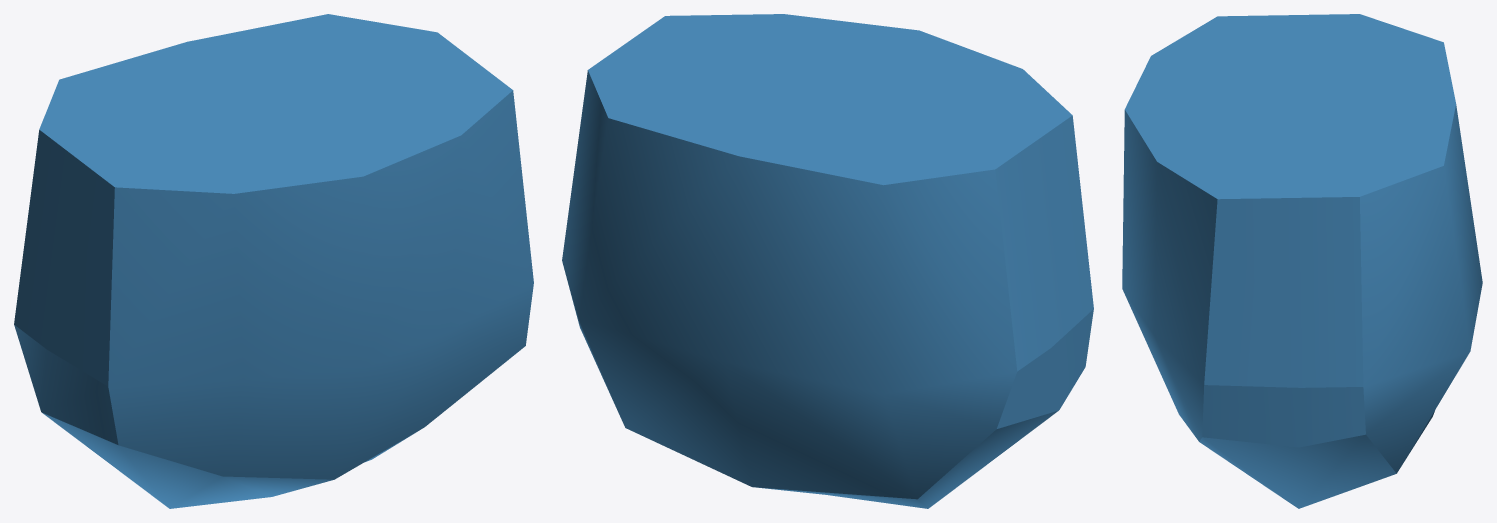
File: Driver_Hips.fbx
3 views of the same model, side by side, from view 1: azimuth 30°, elevation 25°; view 2: azimuth 150°, elevation 25°; view 3: azimuth 270°, elevation 25° (orthographic). The views are drawn at different scales.
Visible parts, largest first — view 1: Driver_Hips; view 2: Driver_Hips; view 3: Driver_Hips.
Part boxes in pixels (left/top/right/bottom): Driver_Hips: left=14, top=14, right=533, bottom=508; Driver_Hips: left=562, top=14, right=1093, bottom=508; Driver_Hips: left=1122, top=14, right=1482, bottom=508.
Bounding box in the file's own units: 32.54 × 26.63 × 23.54.
